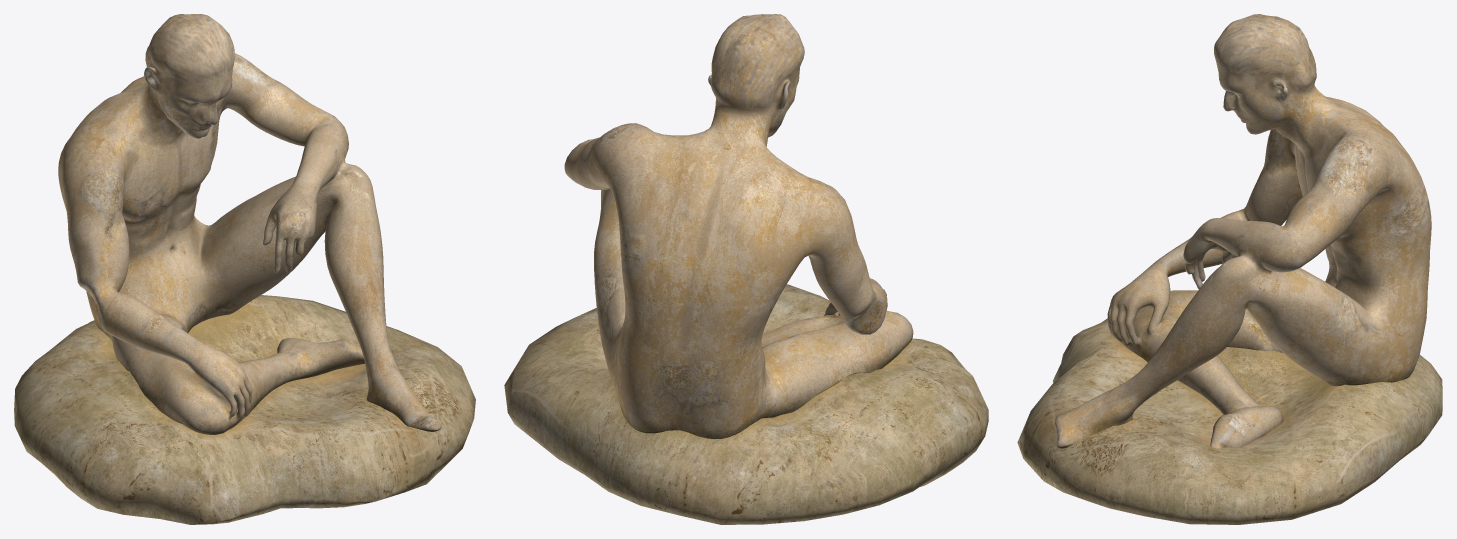
Rendered from greek_underwater_broken_statue_4.glb.
3 renders of one model, left to right at view 1: azimuth 30°, elevation 25°; view 2: azimuth 150°, elevation 25°; view 3: azimuth 270°, elevation 25°, orthographic. The views are drawn at different scales.
Visible parts, largest first — view 1: mesh_part_03_0, mesh_part_01_0, mesh_part_02_0; view 2: mesh_part_01_0, mesh_part_03_0, mesh_part_02_0; view 3: mesh_part_03_0, mesh_part_01_0, mesh_part_02_0.
Part boxes in pixels (x1,y1,x2,y2): mesh_part_03_0: [14, 295, 475, 524]; mesh_part_01_0: [58, 14, 348, 420]; mesh_part_02_0: [86, 162, 441, 434]; mesh_part_01_0: [564, 14, 887, 359]; mesh_part_03_0: [504, 284, 988, 524]; mesh_part_02_0: [594, 189, 913, 438]; mesh_part_03_0: [1017, 318, 1442, 524]; mesh_part_01_0: [1107, 14, 1431, 346]; mesh_part_02_0: [1055, 255, 1428, 448].
Bounding box in the file's own units: 1.01 × 0.9994 × 0.9532.
Materials: 3 (3 with a texture image).
